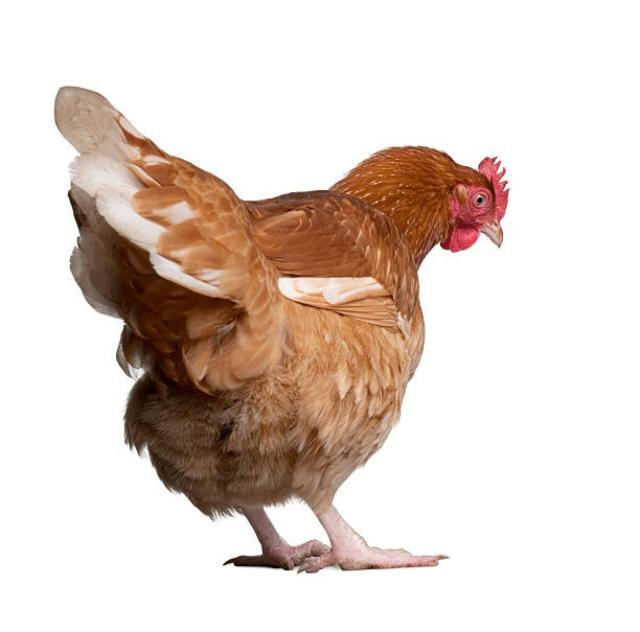Chicken: (54, 85, 509, 574)
